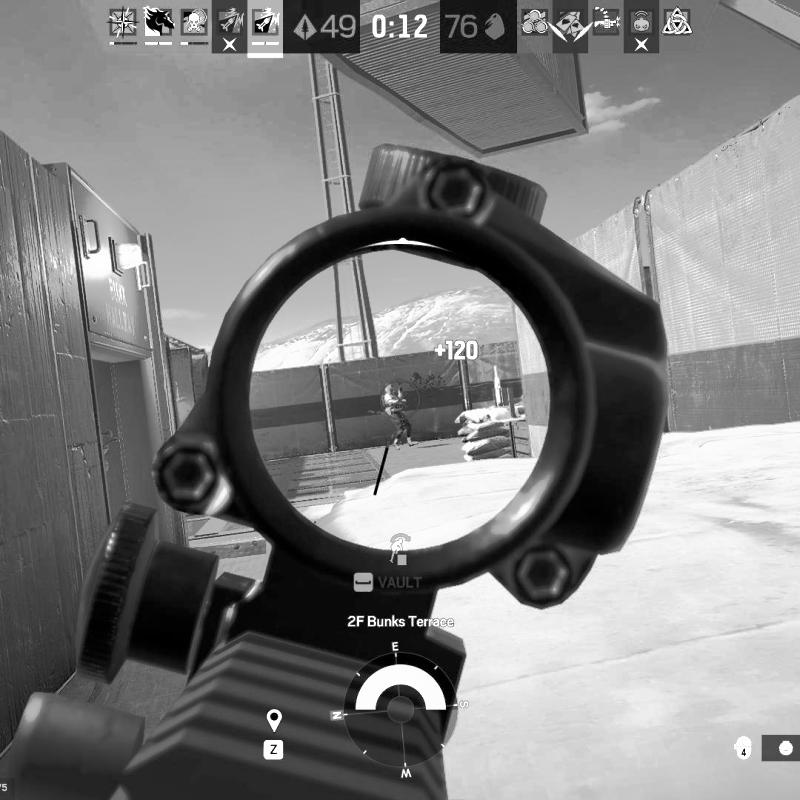Character: (383, 382, 420, 451)
Head: (385, 383, 395, 395)
